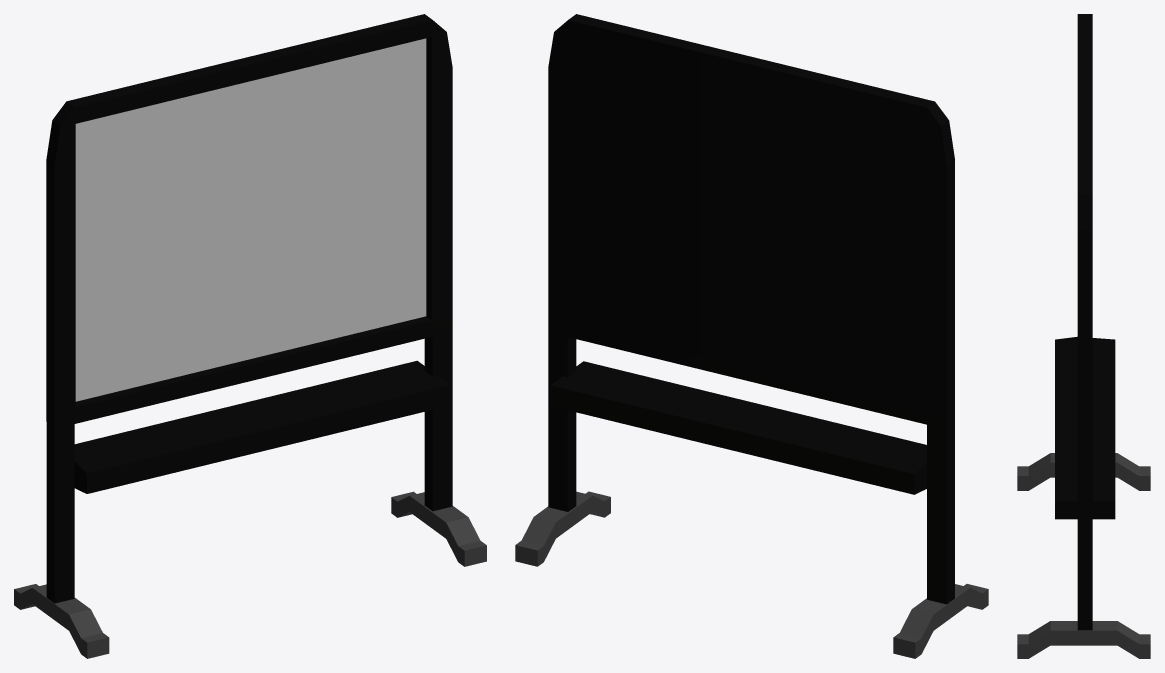
Rendered from whiteboard.gltf.
3 renders of one model, left to right at view 1: azimuth 30°, elevation 25°; view 2: azimuth 150°, elevation 25°; view 3: azimuth 270°, elevation 25°, orthographic. The views are drawn at different scales.
Visible parts, largest first — view 1: Whiteboard; view 2: Whiteboard; view 3: Whiteboard.
Boxes of the visible parts, left/top/right/bottom form: Whiteboard: left=14, top=14, right=486, bottom=658; Whiteboard: left=515, top=14, right=988, bottom=658; Whiteboard: left=1017, top=14, right=1150, bottom=658.
Size of the model in its own units: 1.52 by 1.9 by 0.4827.
Materials: 1 (1 with a texture image).
